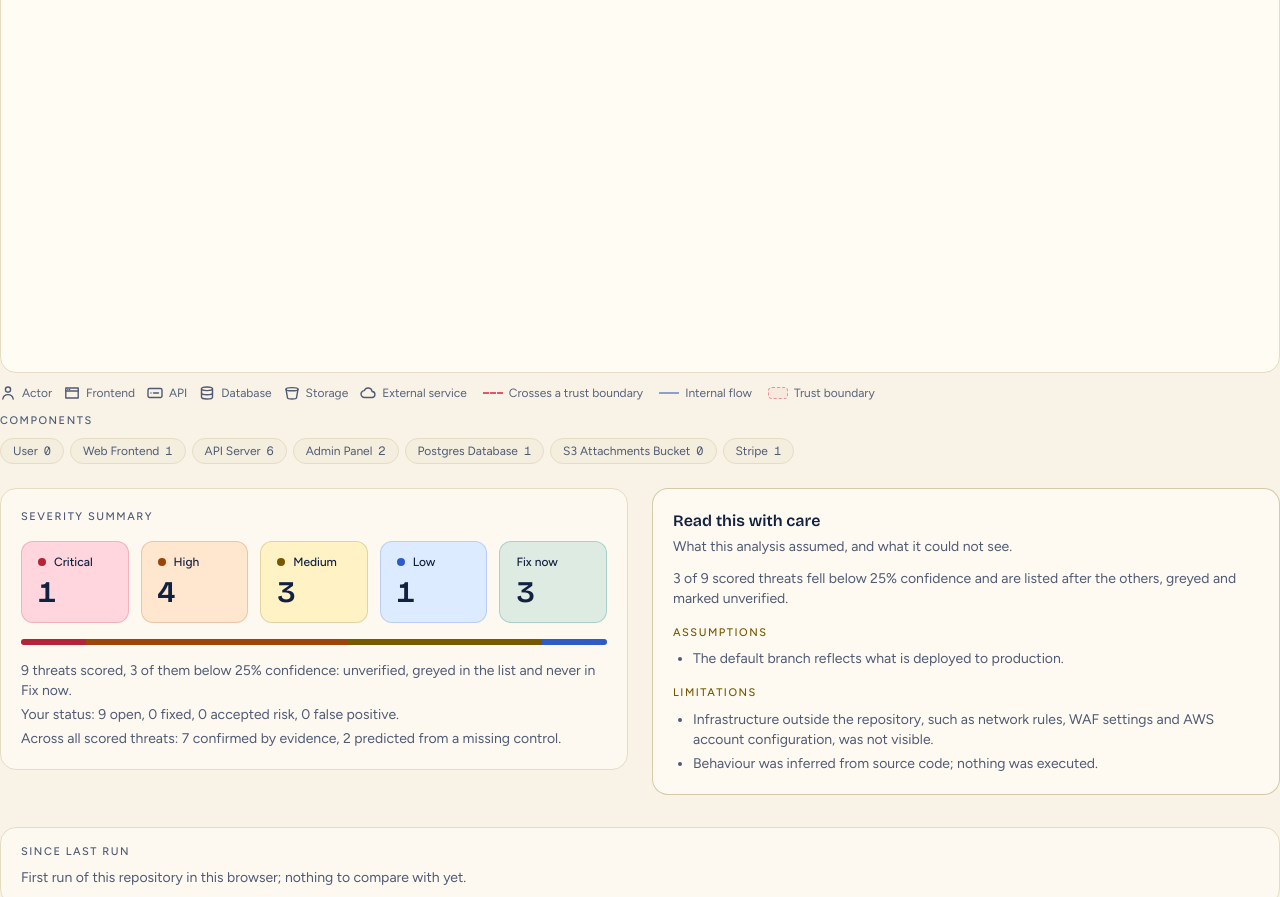
Test case: Dashboard with the demo fixture › restores the full list when the same component is pressed again
This screenshot has width=1280, height=897.
(page scrolled)
What coordinates should you click on to do the following:
click the button "Stripe1"
I would click on:
 (758, 451)
Its box is x1=722 y1=438 x2=794 y2=464.
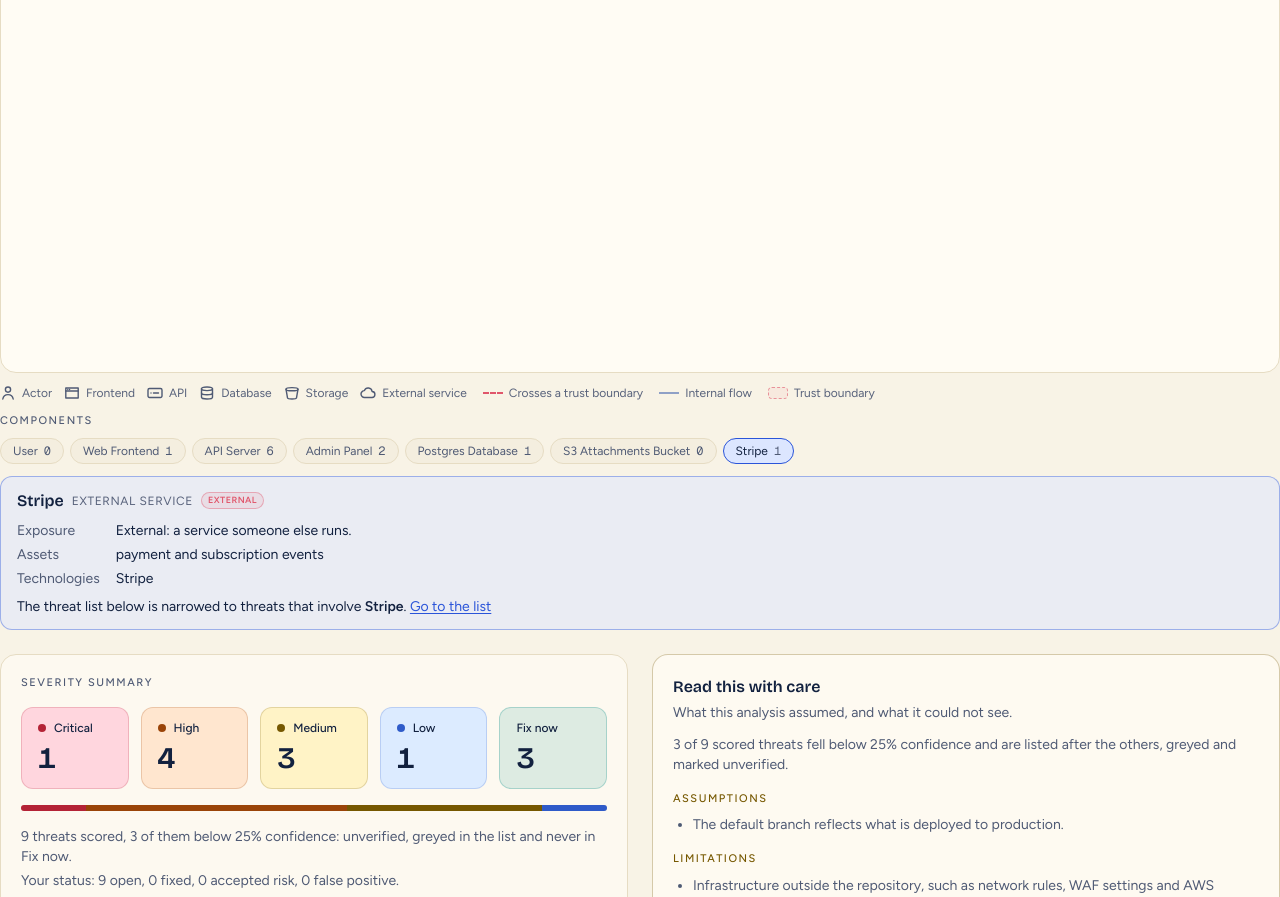
What coordinates should you click on to do the following:
click the button "Stripe1"
I would click on:
 (758, 451)
Its box is x1=722 y1=438 x2=794 y2=464.
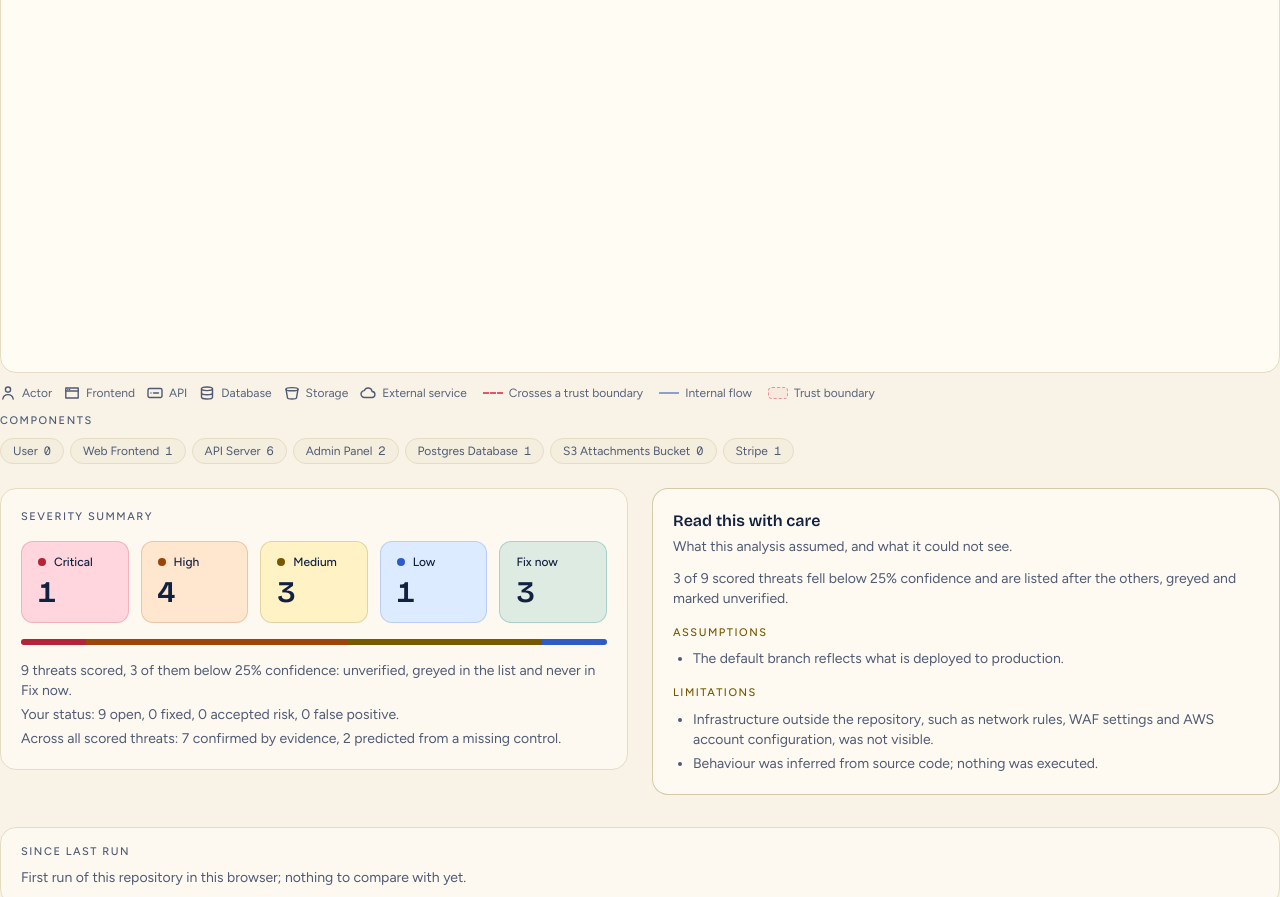
Now the message is gone
